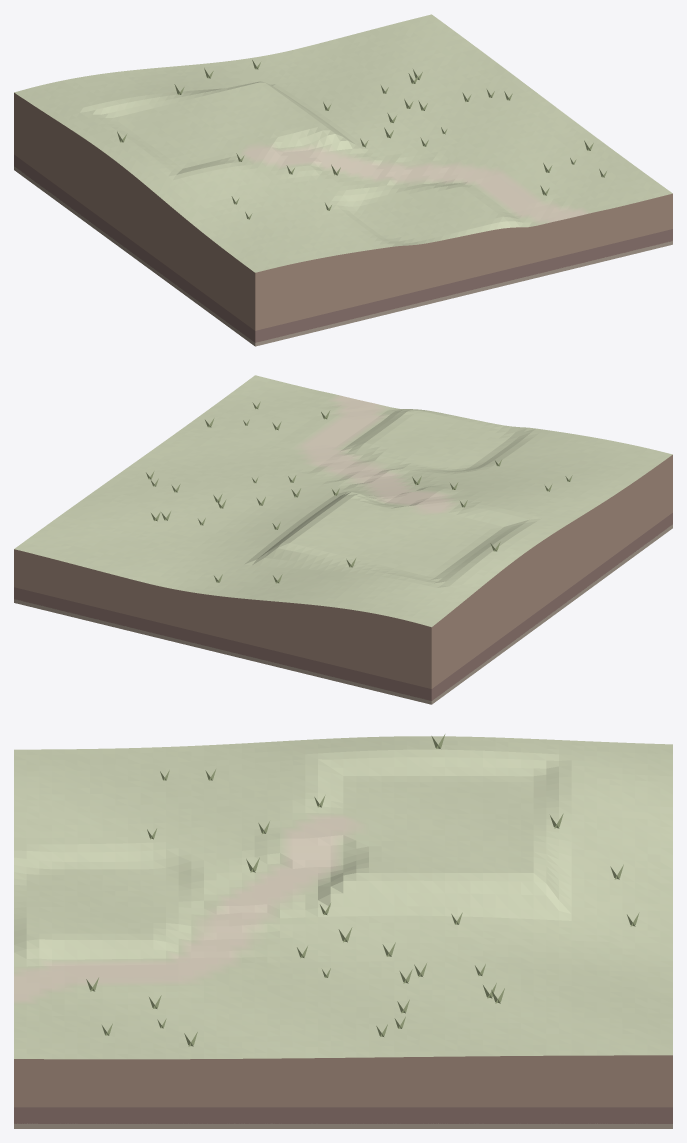
Rendered from D04_proc.glb.
The picture shows the model from 3 angles, top to bottom: view 1: azimuth 30°, elevation 25°; view 2: azimuth 150°, elevation 25°; view 3: azimuth 270°, elevation 25°; orthographic projection. The views are drawn at different scales.
Visible parts, largest first — view 1: proc_ground, proc_skirt, proc_grass; view 2: proc_ground, proc_skirt, proc_grass; view 3: proc_ground, proc_skirt, proc_grass.
Part boxes in pixels (x1=…): proc_ground: x1=14, y1=14, x2=672, y2=272; proc_skirt: x1=14, y1=92, x2=672, y2=346; proc_grass: x1=117, y1=60, x2=606, y2=219; proc_ground: x1=14, y1=375, x2=672, y2=627; proc_skirt: x1=14, y1=455, x2=672, y2=704; proc_grass: x1=146, y1=401, x2=572, y2=583; proc_ground: x1=14, y1=736, x2=672, y2=1059; proc_skirt: x1=14, y1=1055, x2=672, y2=1128; proc_grass: x1=86, y1=734, x2=639, y2=1046.
Bounding box in the file's own units: 8 × 1.75 × 8.
